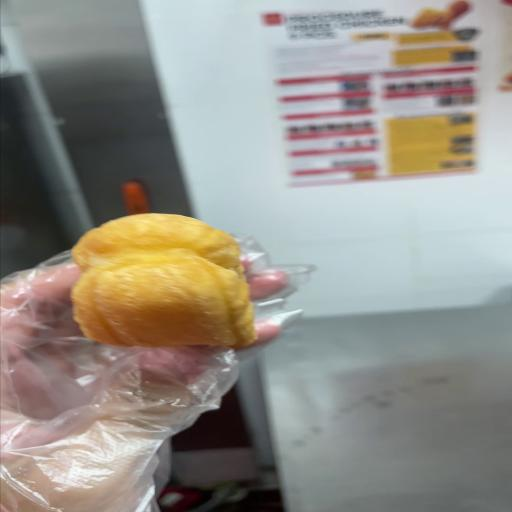brand_golden_good: (72, 214, 256, 348)
